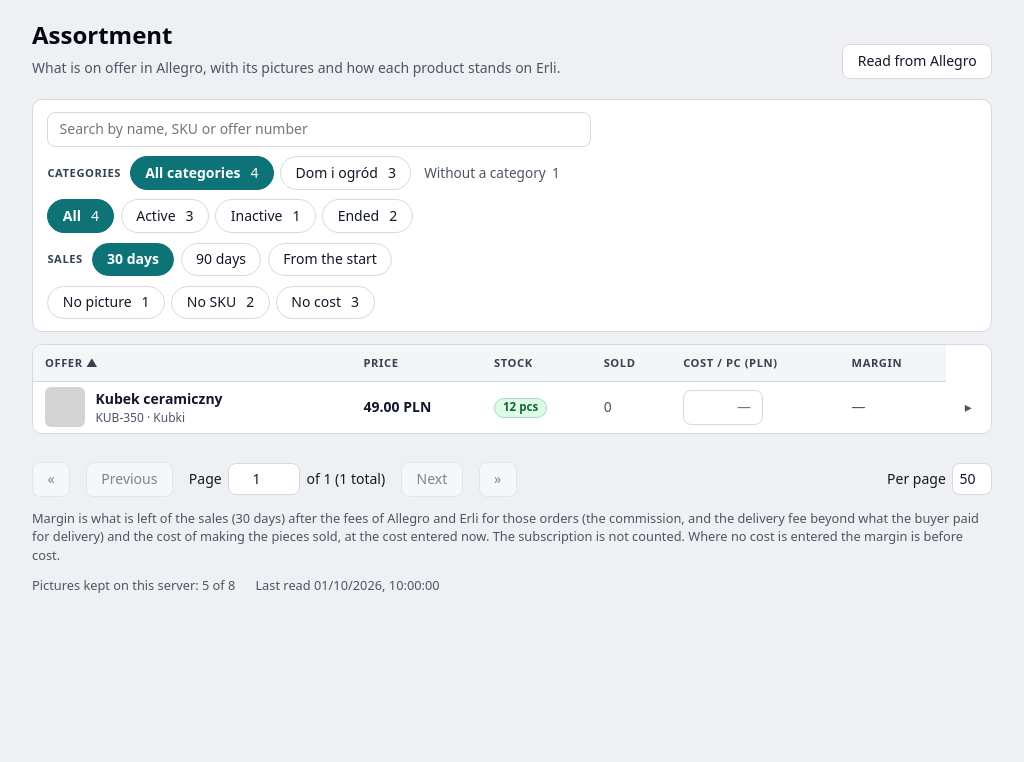
CatalogPage › has no Erli column until Erli is connected
The width and height of the screenshot is (1024, 762).
Expected: the text "Kubek ceramiczny" is shown, [95, 389, 223, 410]
Click the button named "Kubek ceramiczny": x=968, y=407 [958, 395, 979, 419]
(page scrolled)
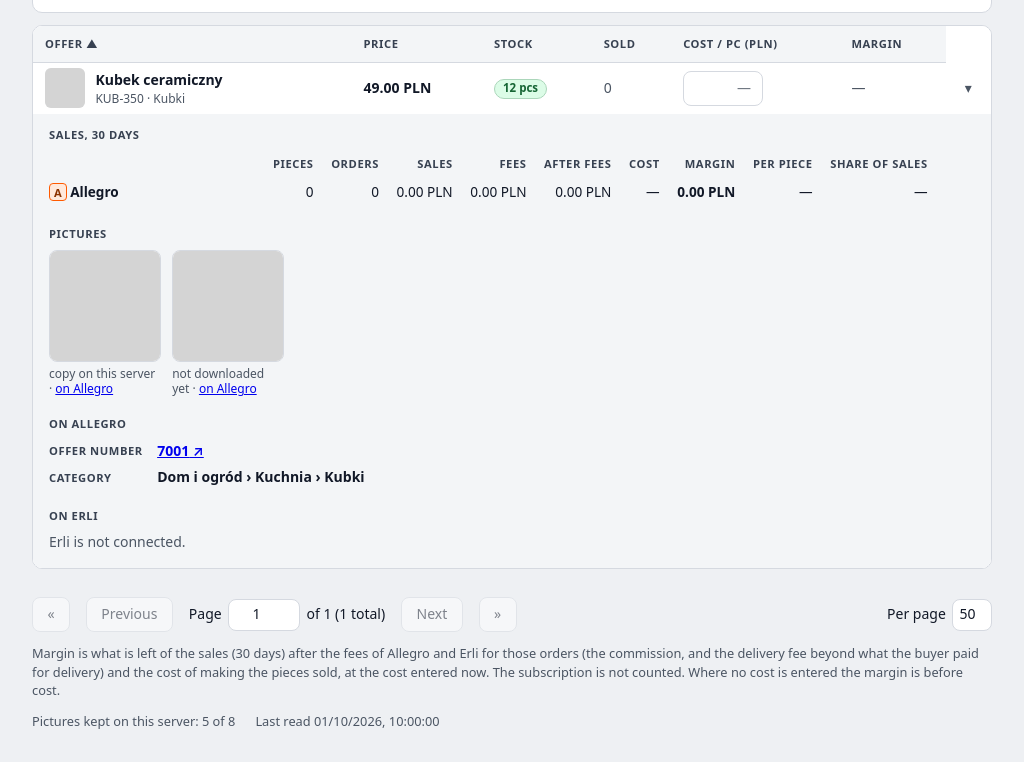
Now the text "Erli is not connected." is shown, box [49, 532, 186, 551]
